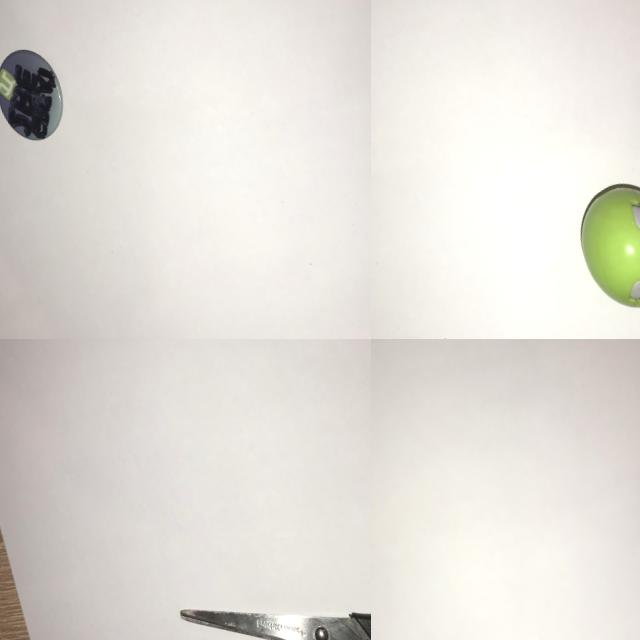icon: (0, 32, 79, 159)
scissors: (169, 520, 371, 640)
toy: (559, 164, 640, 325)
